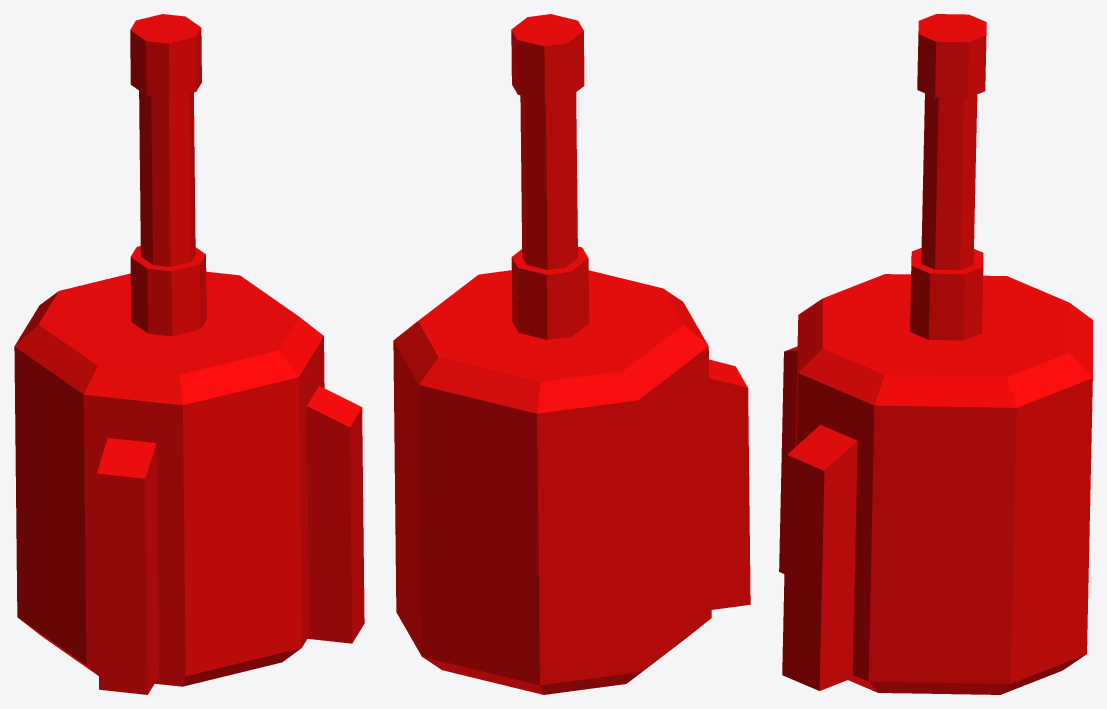
File: Parts_Railgun.fbx
The picture shows the model from 3 angles, left to right: view 1: azimuth 30°, elevation 25°; view 2: azimuth 150°, elevation 25°; view 3: azimuth 270°, elevation 25°; orthographic projection. The views are drawn at different scales.
Parts seen in each view (by area): view 1: Cylinder013; view 2: Cylinder013; view 3: Cylinder013.
Boxes of the visible parts, box(x1,y1,x2,y2) form: Cylinder013: box(14, 14, 364, 694); Cylinder013: box(393, 14, 750, 694); Cylinder013: box(779, 14, 1092, 694).
Bounding box in the file's own units: 25.81 × 55.58 × 25.58.
